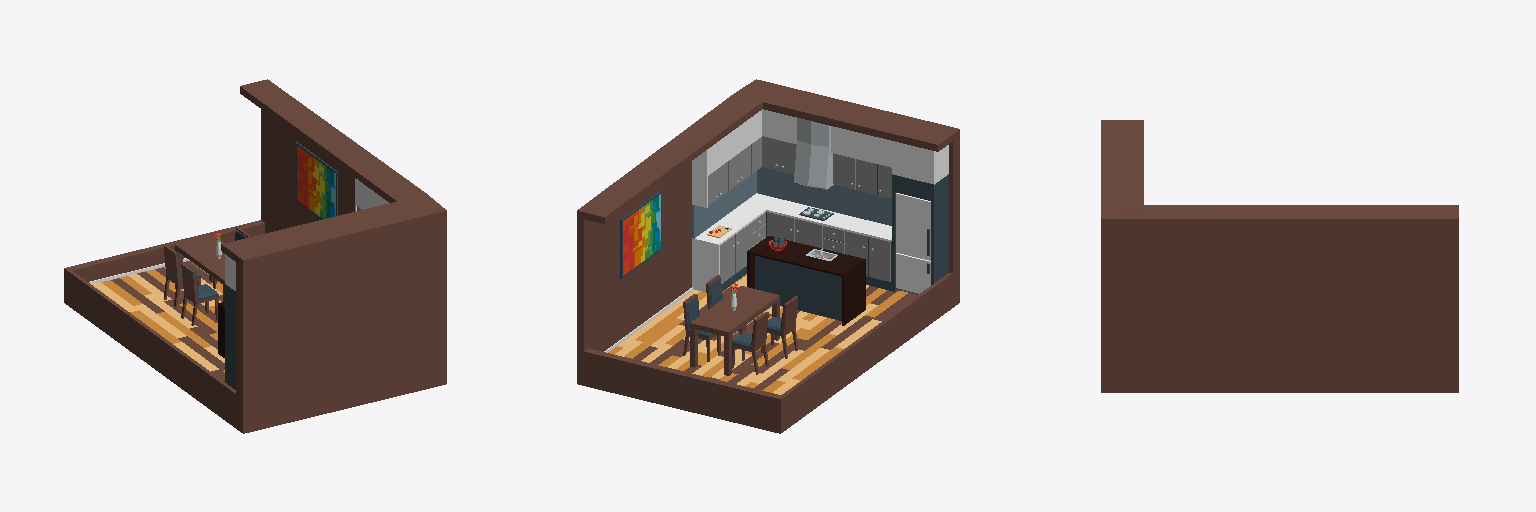
The model's file is kitchen.obj.
3 renders of one model, left to right at view 1: azimuth 30°, elevation 25°; view 2: azimuth 150°, elevation 25°; view 3: azimuth 270°, elevation 25°, orthographic.
Parts seen in each view (by area): view 1: Object.1; view 2: Object.1; view 3: Object.1.
Boxes of the visible parts, box(x1,y1,x2,y2) form: Object.1: box(64, 79, 446, 433); Object.1: box(577, 79, 959, 433); Object.1: box(1101, 120, 1458, 392).
Bounding box in the file's own units: 53.59 × 43.69 × 81.28.